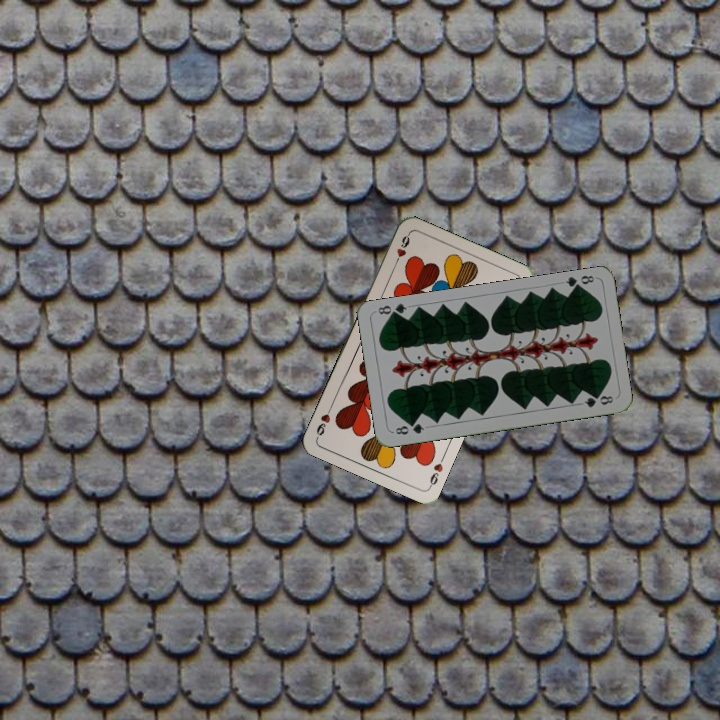G8: (561, 271, 596, 293), (391, 419, 427, 437)
H9: (390, 230, 413, 268), (426, 451, 448, 490)
